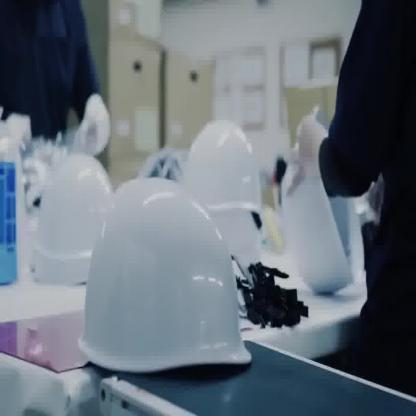helmet: (77, 175, 252, 374), (281, 107, 359, 296), (31, 152, 112, 286), (185, 113, 262, 214)
